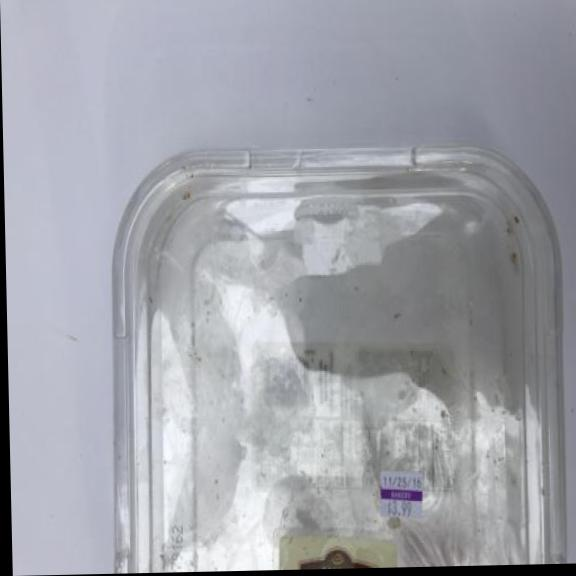Plastik: (105, 136, 568, 574)
